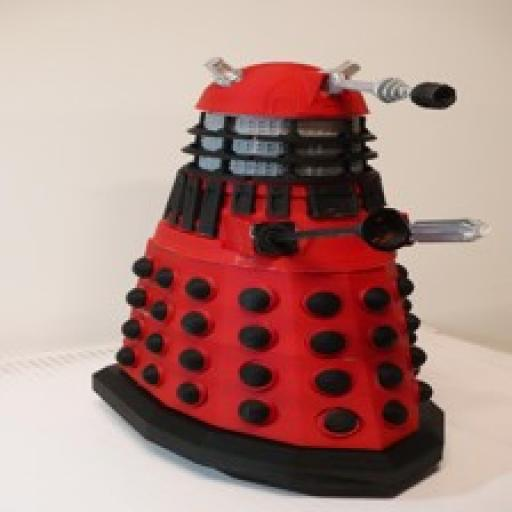dalek: (85, 52, 488, 504)
